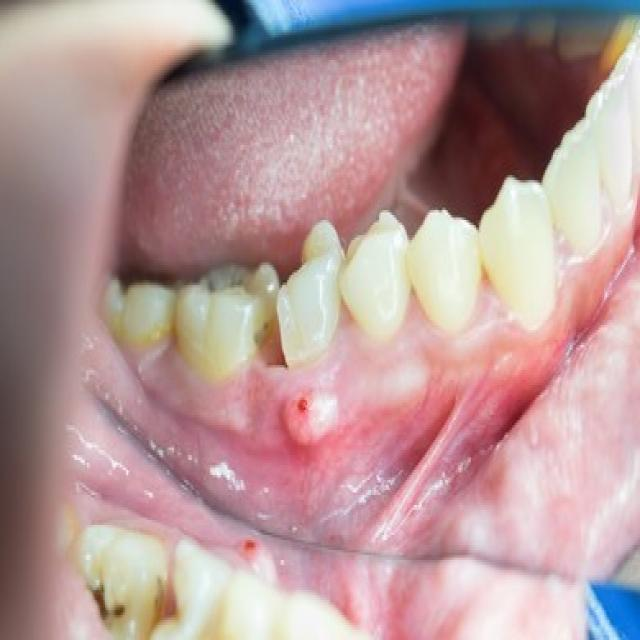abscess: (249, 363, 382, 480)
